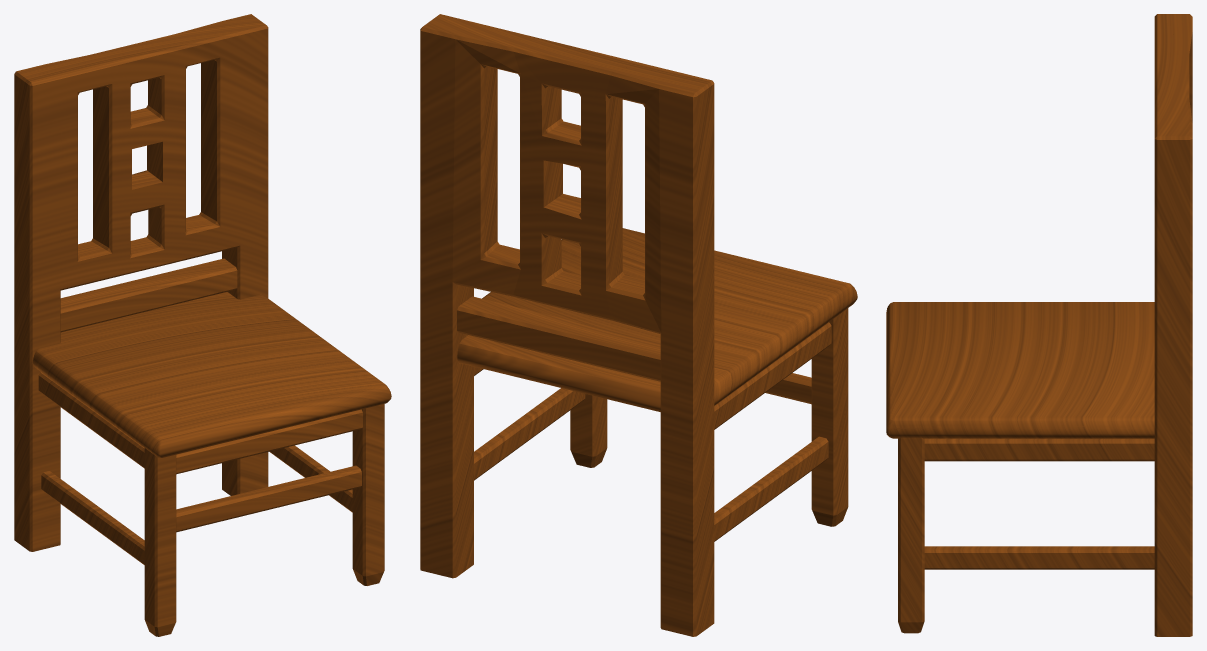
The model's file is CadeiraMadeira.fbx.
The picture shows the model from 3 angles, left to right: view 1: azimuth 30°, elevation 25°; view 2: azimuth 150°, elevation 25°; view 3: azimuth 270°, elevation 25°; orthographic projection. The views are drawn at different scales.
Visible parts, largest first — view 1: CadeiraMadeira; view 2: CadeiraMadeira; view 3: CadeiraMadeira.
Boxes of the visible parts, x1,y1,x2,y2 form: CadeiraMadeira: (14,14,391,636); CadeiraMadeira: (420,14,857,636); CadeiraMadeira: (886,14,1192,636).
Bounding box in the file's own units: 209 × 391 × 217.
